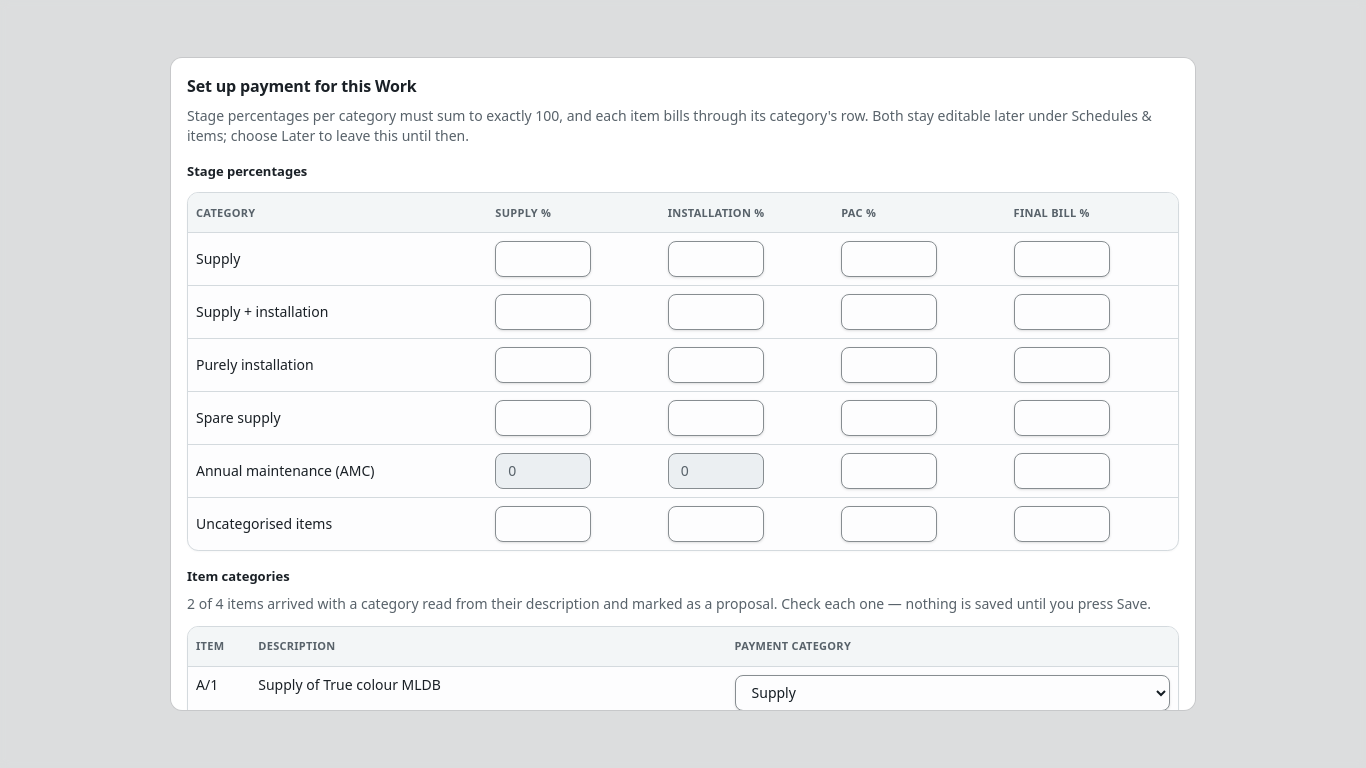
Test: WorkPaymentSetup › refuses a save that would leave an item billing through no row
The width and height of the screenshot is (1366, 768).
In the field named "Supply % for Supply": coordinates (543, 259) [495, 241, 591, 277], type "80"
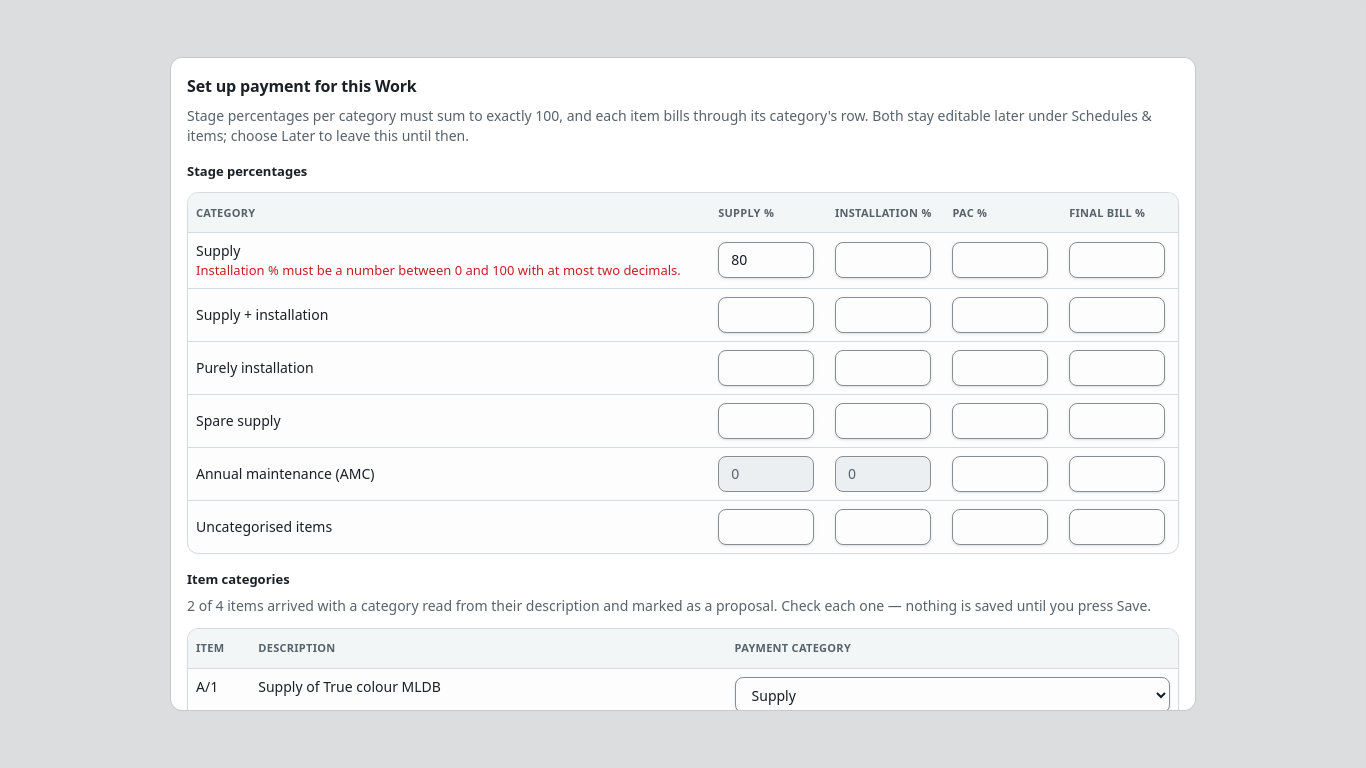
In the field named "Installation % for Supply": coordinates (883, 260) [835, 242, 931, 278], type "0"
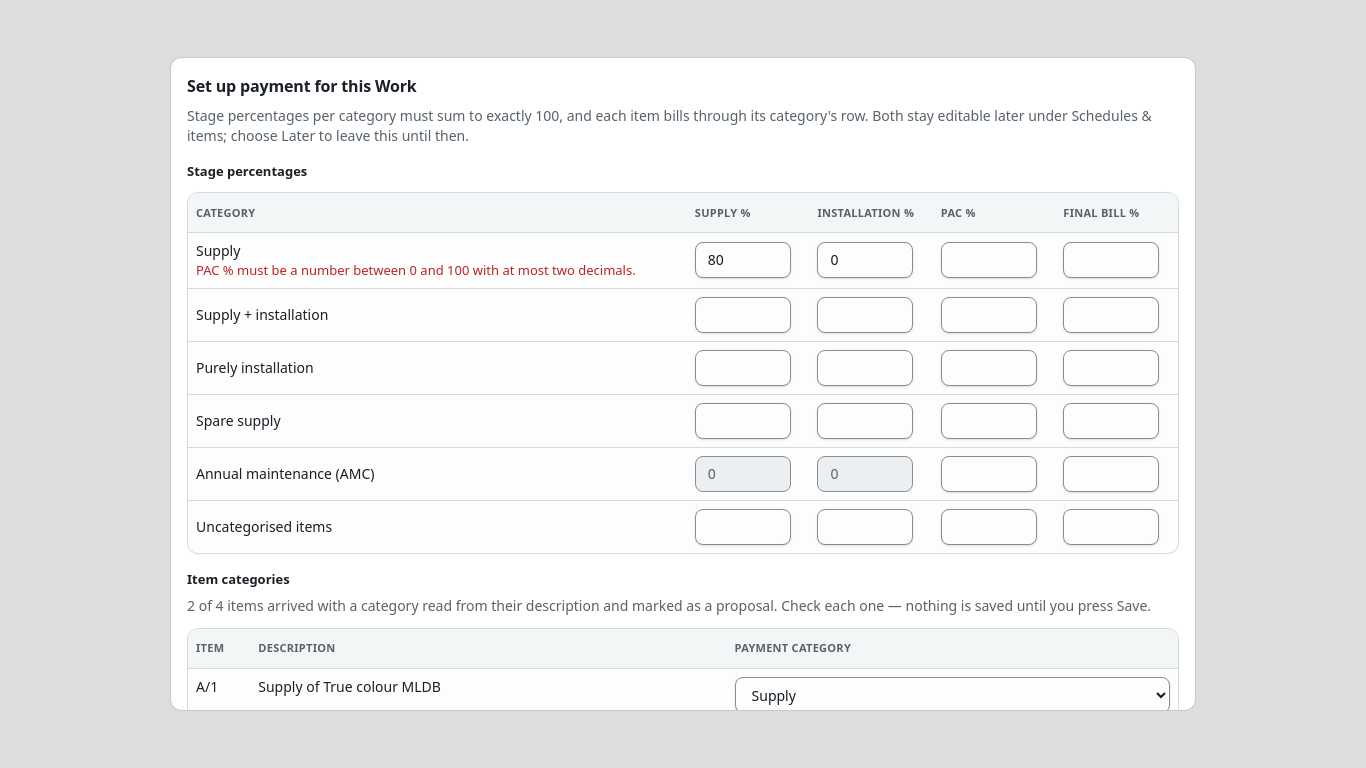
In the field named "PAC % for Supply": coordinates (989, 260) [941, 242, 1037, 278], type "10"
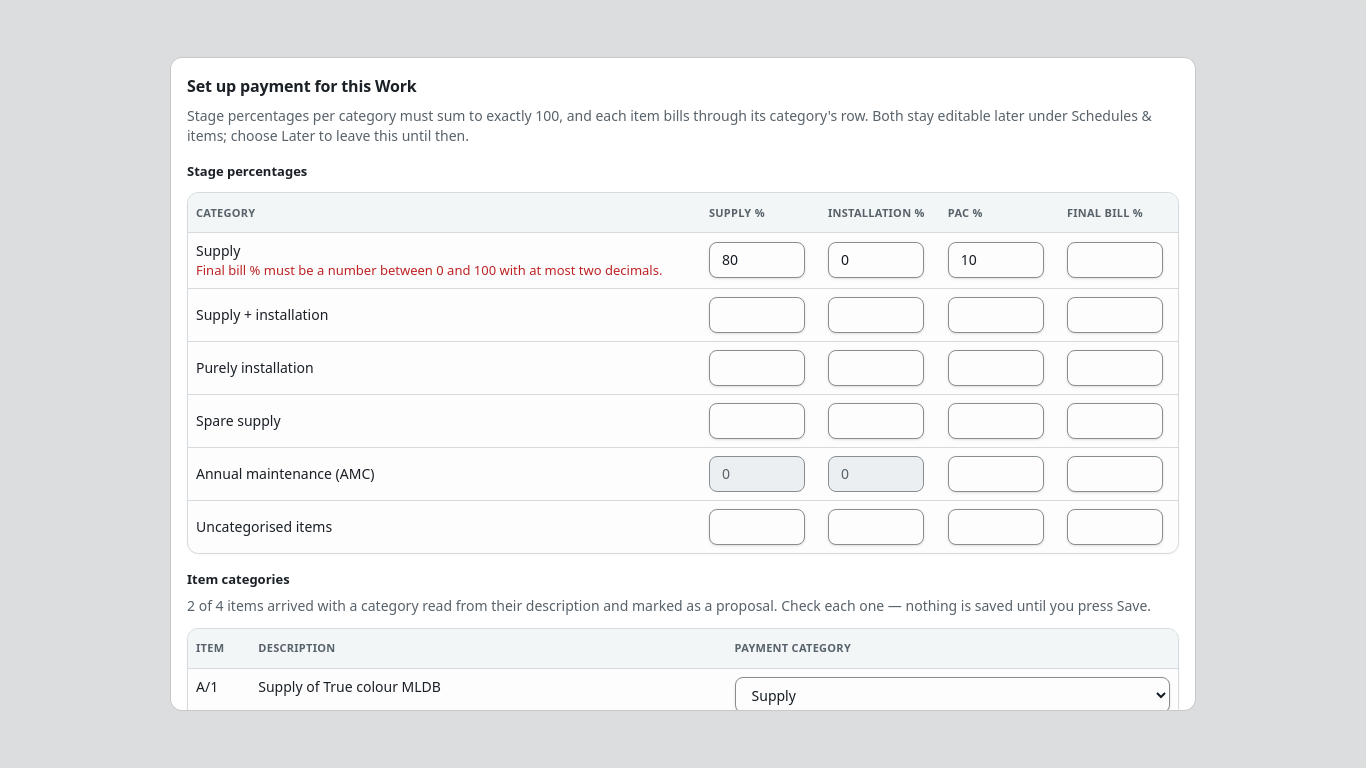
In the field named "Final bill % for Supply": coordinates (1115, 260) [1067, 242, 1163, 278], type "10"
(page scrolled)
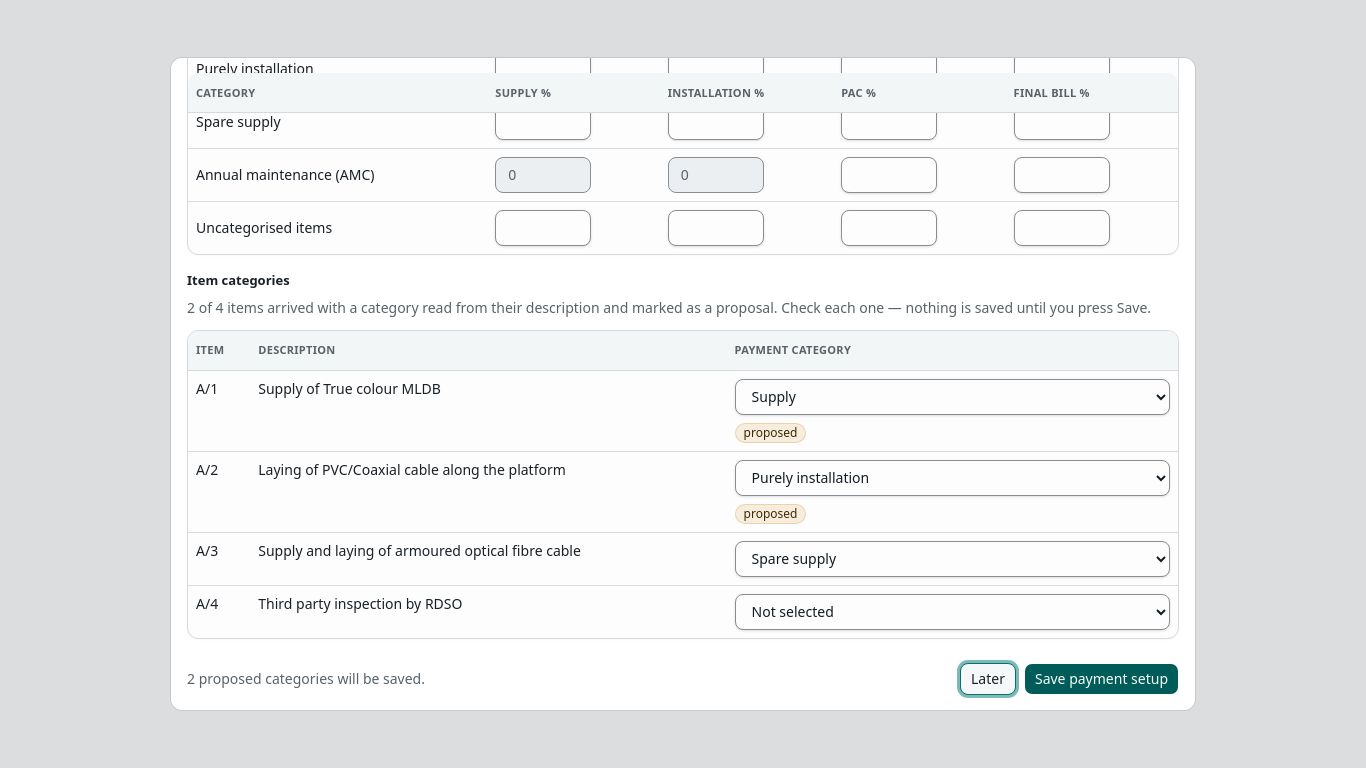
Click the button "Save payment setup": coordinates (1102, 679) [1024, 663, 1179, 695]
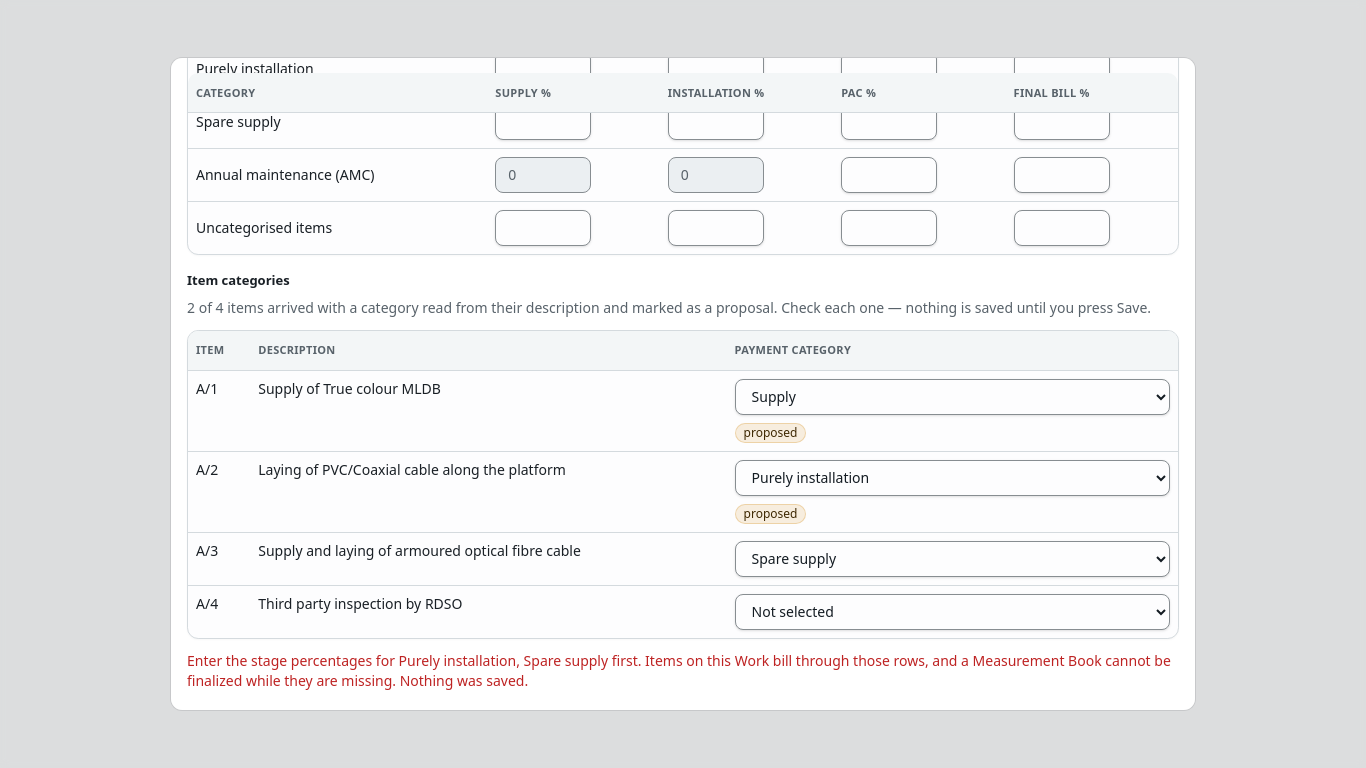
Check: the text "Enter the stage percentages for" does not show "Uncategorised items"
Check: the text "Enter the stage percentages for" shows "Purely installation", box [187, 651, 1171, 690]
Check: the text "Enter the stage percentages for" shows "Spare supply", box [187, 651, 1171, 690]
